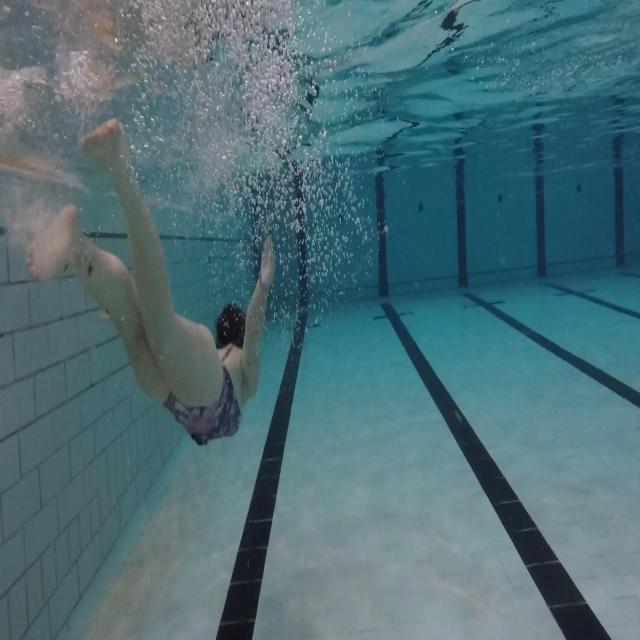human: (23, 115, 276, 447)
